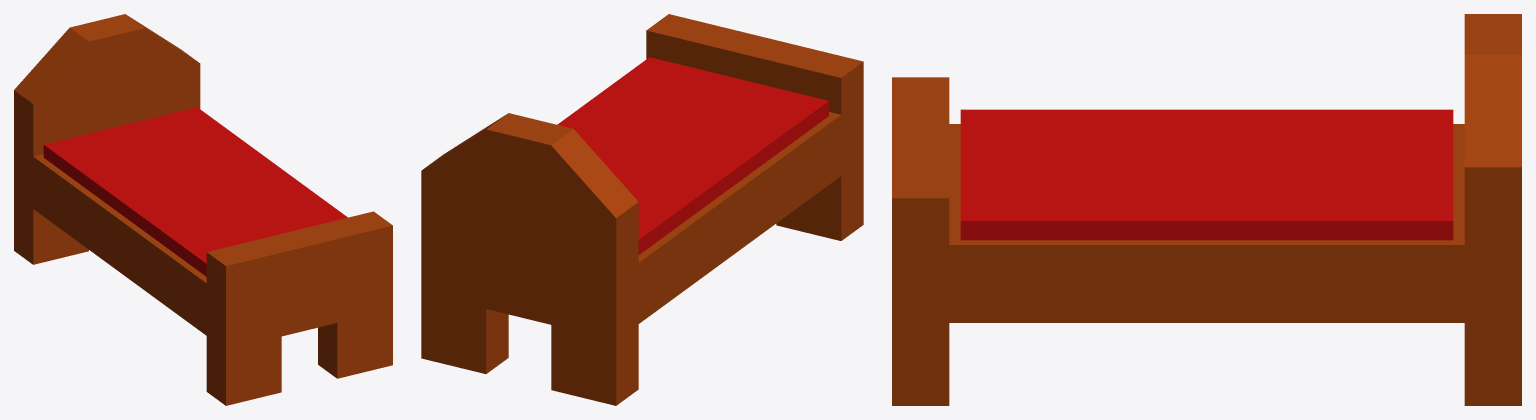
File: Seng(2).fbx
3 views of the same model, side by side, from view 1: azimuth 30°, elevation 25°; view 2: azimuth 150°, elevation 25°; view 3: azimuth 270°, elevation 25° (orthographic). The views are drawn at different scales.
Parts seen in each view (by area): view 1: Cube_4; view 2: Cube_4; view 3: Cube_4.
Part boxes in pixels (x1=…): Cube_4: x1=14, y1=14, x2=392, y2=405; Cube_4: x1=421, y1=14, x2=863, y2=405; Cube_4: x1=892, y1=14, x2=1521, y2=405.
Bounding box in the file's own units: 250 × 300 × 550.
